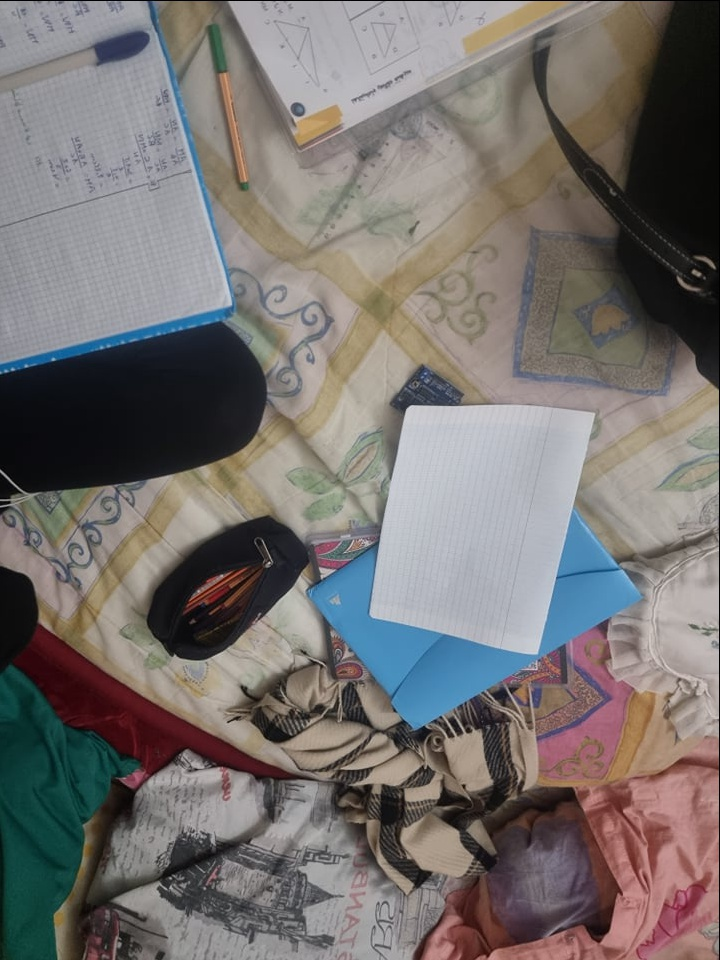5V EXPANSION: (390, 364, 466, 420)
